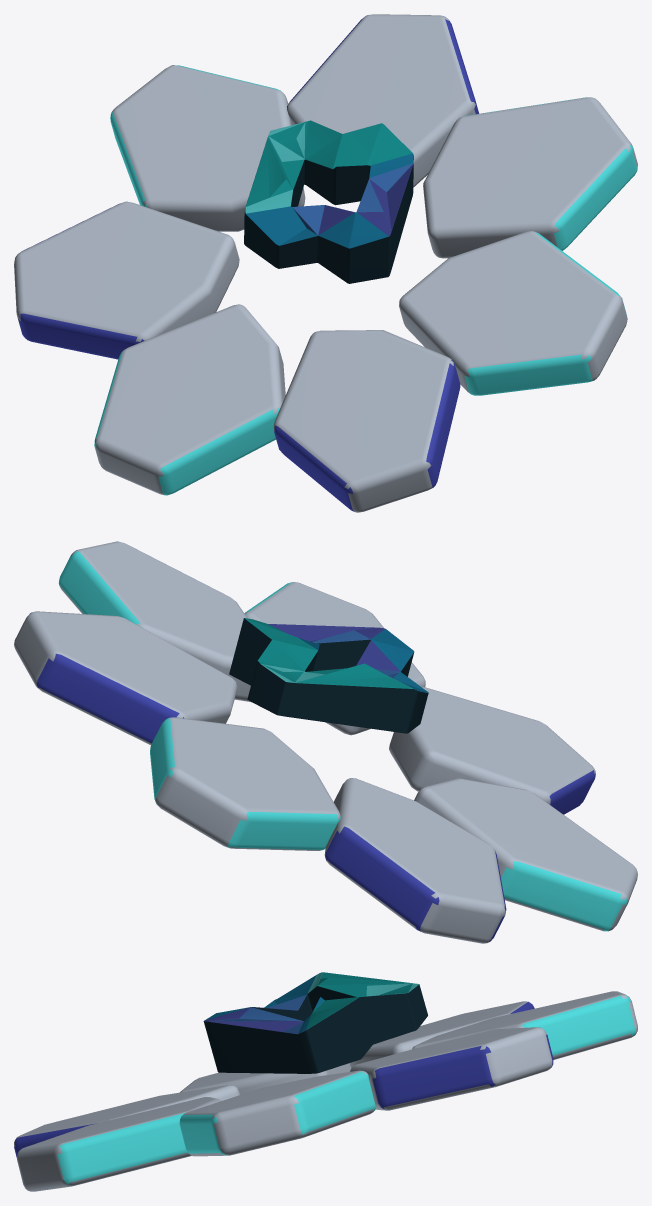
The model's file is ascore-unified-sculpted.glb.
3 renders of one model, top to bottom at view 1: azimuth 30°, elevation 25°; view 2: azimuth 150°, elevation 25°; view 3: azimuth 270°, elevation 25°, orthographic. The views are drawn at different scales.
Visible parts, largest first — view 1: Aperture blade 07, Aperture blade 06, Aperture blade 05, Aperture blade 04, Aperture blade 01, ASCORE sculpted metal emblem, Aperture blade 03, Aperture blade 02; view 2: Aperture blade 03, Aperture blade 04, Aperture blade 02, ASCORE sculpted metal emblem, Aperture blade 05, Aperture blade 06, Aperture blade 01, Aperture blade 07; view 3: ASCORE sculpted metal emblem, Aperture blade 01, Aperture blade 02, Aperture blade 07, Aperture blade 03, Aperture blade 06, Aperture blade 04, Aperture blade 05.
Part boxes in pixels (x1,y1,x2,y2): Aperture blade 07: (399, 231, 627, 395); Aperture blade 06: (273, 330, 460, 512); Aperture blade 05: (94, 304, 285, 495); Aperture blade 04: (14, 201, 239, 359); Aperture blade 01: (423, 97, 637, 258); ASCORE sculpted metal emblem: (244, 120, 413, 283); Aperture blade 03: (110, 65, 305, 231); Aperture blade 02: (287, 14, 478, 187); Aperture blade 03: (150, 717, 340, 850); Aperture blade 04: (324, 778, 506, 943); Aperture blade 02: (14, 611, 237, 745); ASCORE sculpted metal emblem: (229, 618, 428, 733); Aperture blade 05: (414, 778, 637, 931); Aperture blade 06: (389, 687, 595, 814); Aperture blade 01: (58, 541, 251, 702); Aperture blade 07: (244, 582, 425, 735); ASCORE sculpted metal emblem: (203, 972, 427, 1073); Aperture blade 01: (179, 1070, 376, 1156); Aperture blade 02: (350, 1027, 553, 1110); Aperture blade 07: (17, 1097, 221, 1191); Aperture blade 03: (412, 991, 637, 1059); Aperture blade 06: (14, 1085, 240, 1157); Aperture blade 04: (350, 1001, 534, 1068); Aperture blade 05: (180, 1063, 350, 1094).
Bounding box in the file's own units: 4.07 × 2.06 × 4.15.
